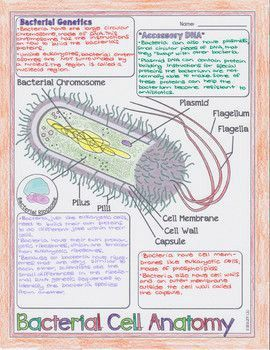page: (15, 18, 249, 332)
